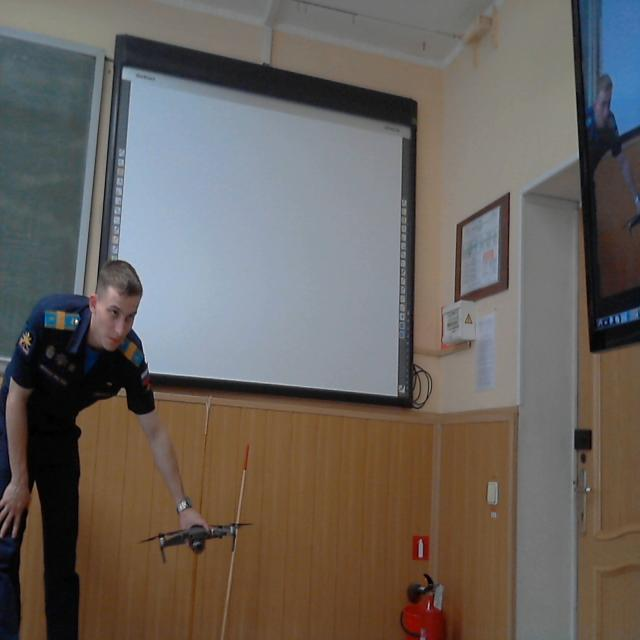drone: (136, 504, 251, 567)
